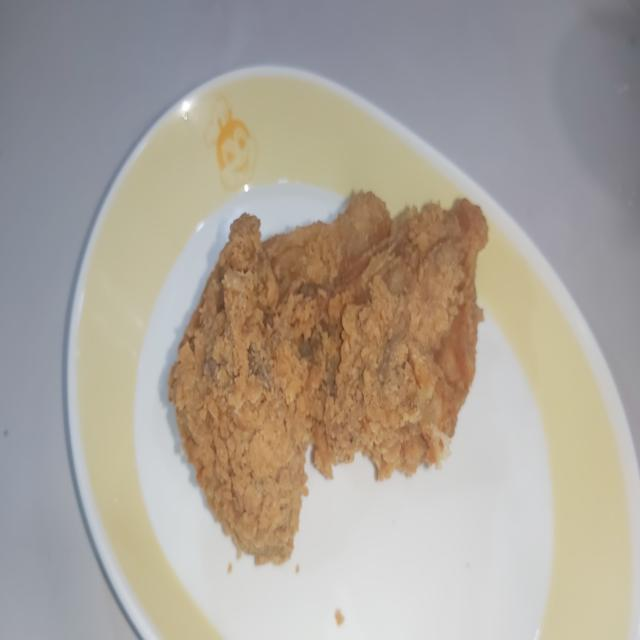Chicken -Fried Chicken-: (162, 186, 493, 574)
